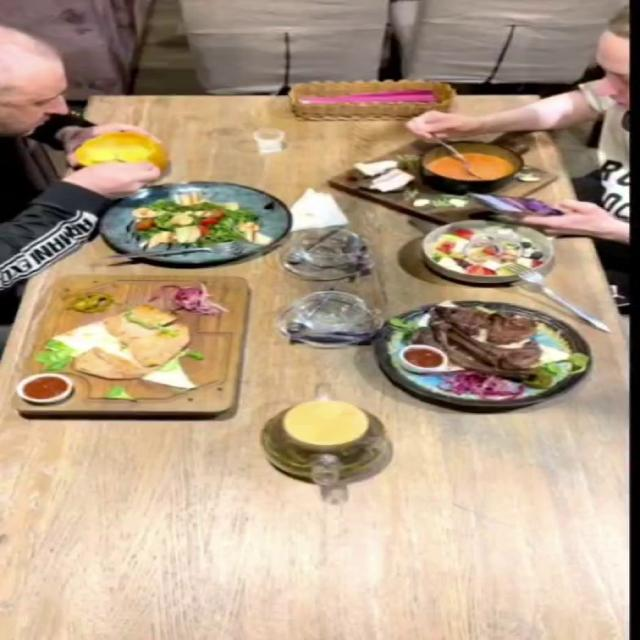alcohol: (252, 124, 315, 160)
meat: (372, 300, 594, 407)
salat: (97, 182, 290, 264), (420, 219, 557, 284)
soup: (327, 137, 562, 225), (74, 130, 168, 174)
tea: (283, 399, 369, 446)
